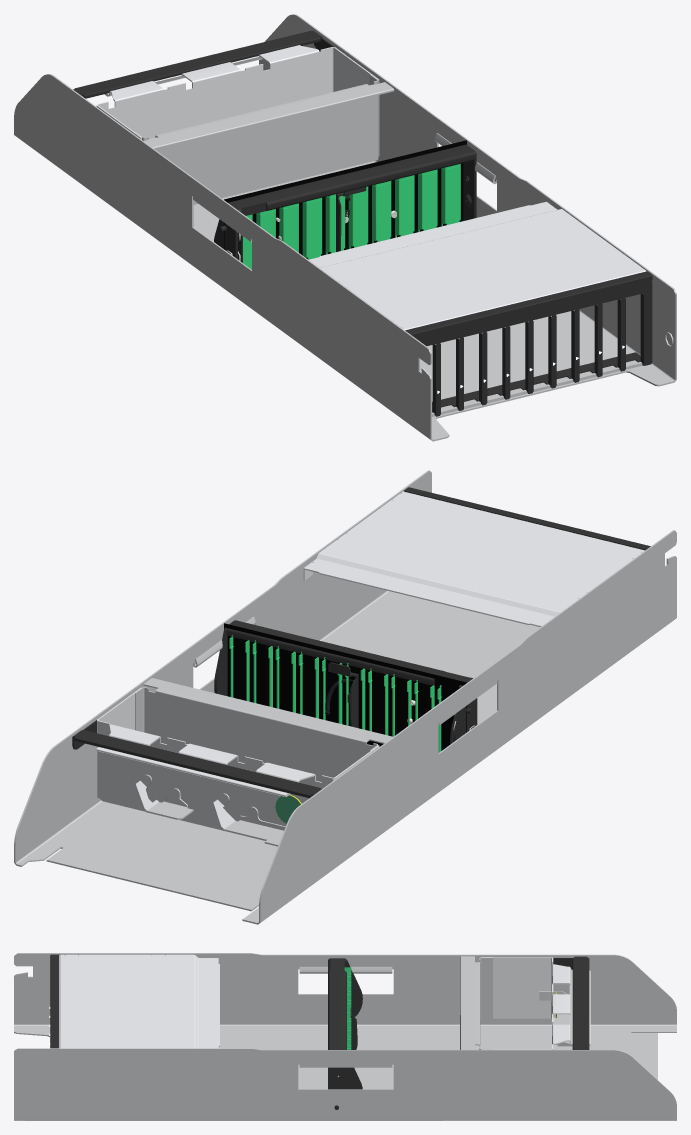
Rendered from exterior.glb.
3 renders of one model, top to bottom at view 1: azimuth 30°, elevation 25°; view 2: azimuth 150°, elevation 25°; view 3: azimuth 270°, elevation 25°, orthographic. The views are drawn at different scales.
Visible parts, largest first — view 1: Frame_low.004_block.002, Plane.030, Cosmo-Handle-1, Frame_low.004_block.033; view 2: Frame_low.004_block.002, Frame_low.004_block.033, Cosmo-Handle-1, Plane.030, Cosmo-Handle-Lock-1; view 3: Frame_low.004_block.002, Cosmo-Handle-1, Plane.030.
Part boxes in pixels (x1,y1,x2,y2): Frame_low.004_block.002: (14,14,676,441); Plane.030: (243,163,460,269); Cosmo-Handle-1: (214,144,476,262); Frame_low.004_block.033: (224,140,466,258); Frame_low.004_block.002: (14,470,676,924); Frame_low.004_block.033: (224,623,466,750); Cosmo-Handle-1: (214,620,477,744); Plane.030: (229,635,454,752); Cosmo-Handle-Lock-1: (328,662,358,728); Frame_low.004_block.002: (14,953,676,1120); Cosmo-Handle-1: (328,958,362,1109); Plane.030: (344,967,351,1049).
Bounding box in the file's own units: 8714 × 3041 × 25061.
